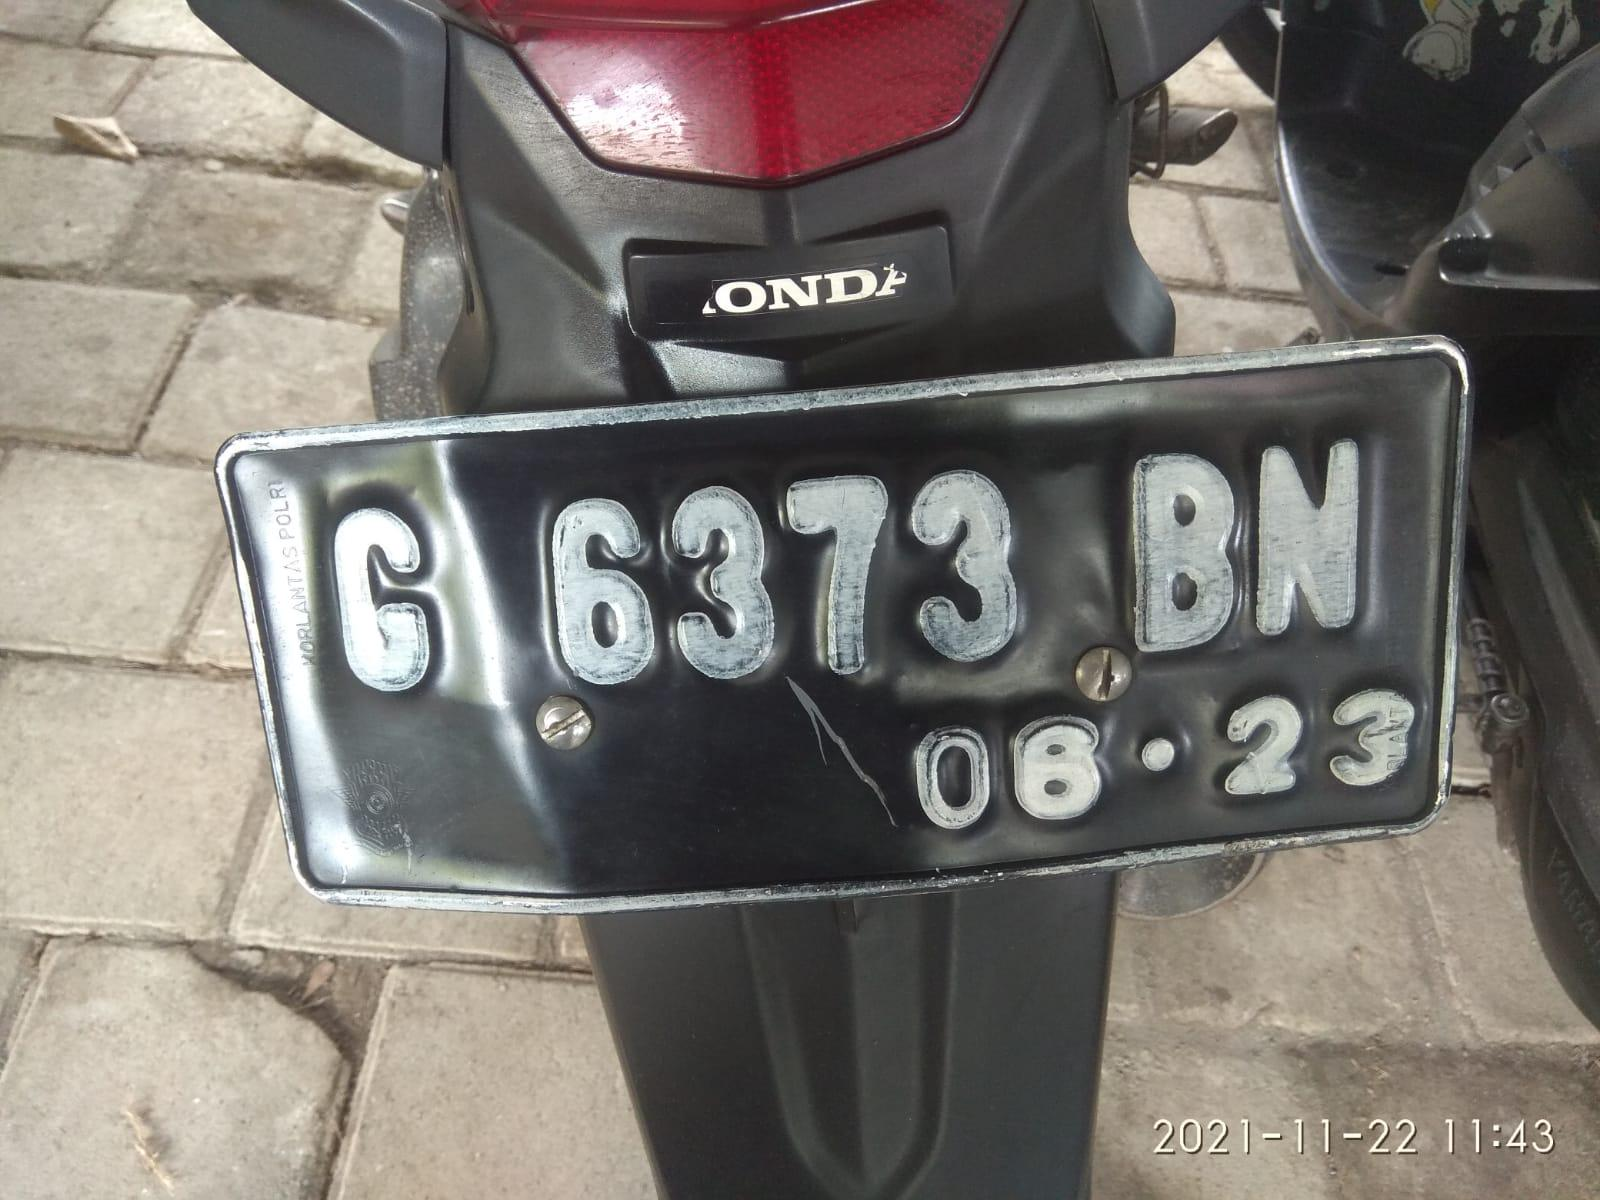plat: (219, 338, 1469, 913)
